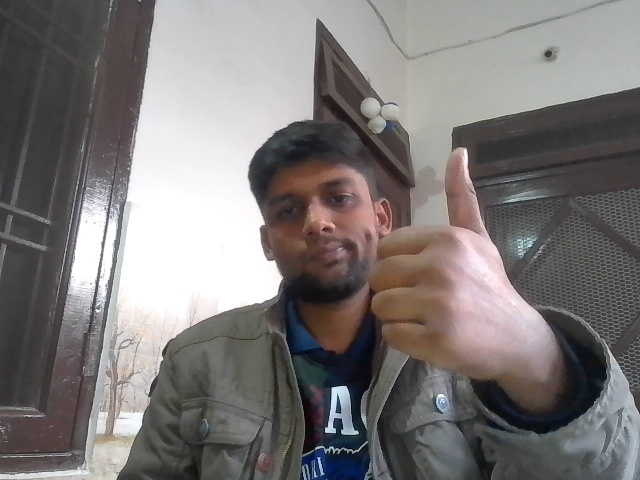BestOfLuck: (369, 147, 509, 379)
